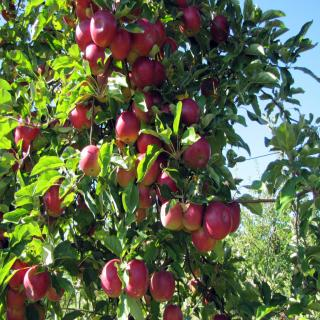Apple: (0, 0, 233, 319), (182, 136, 211, 174)
